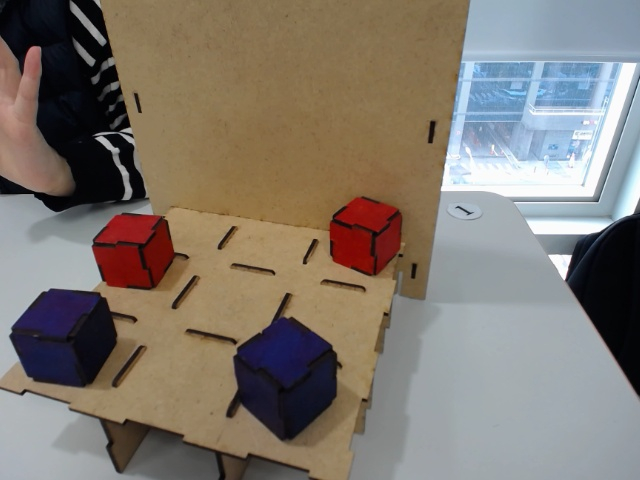blue: (233, 315, 342, 443), (9, 288, 118, 386)
red: (90, 214, 172, 291), (329, 193, 402, 275)
